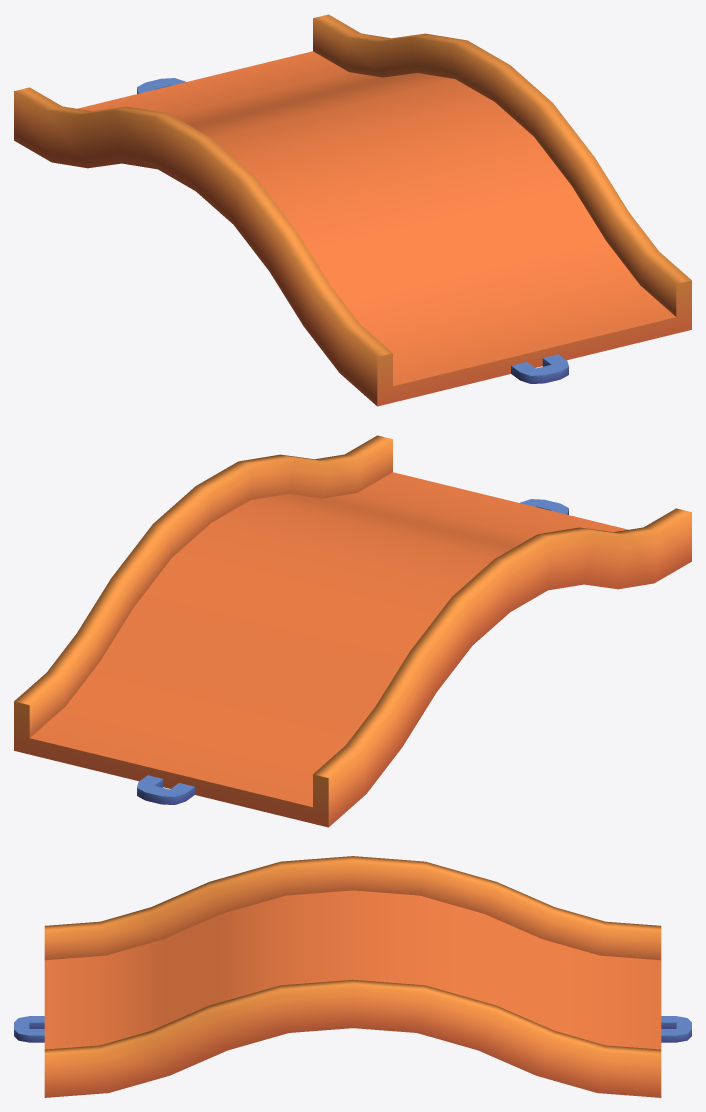
File: kenney-toy-car-track-wide-straight-bump-up.glb
The picture shows the model from 3 angles, top to bottom: view 1: azimuth 30°, elevation 25°; view 2: azimuth 150°, elevation 25°; view 3: azimuth 270°, elevation 25°; orthographic projection. The views are drawn at different scales.
Parts seen in each view (by area): view 1: track-wide-straight-bump-up; view 2: track-wide-straight-bump-up; view 3: track-wide-straight-bump-up.
Boxes of the visible parts, left/top/right/bottom form: track-wide-straight-bump-up: left=14, top=14, right=691, bottom=406; track-wide-straight-bump-up: left=14, top=435, right=691, bottom=827; track-wide-straight-bump-up: left=14, top=856, right=691, bottom=1097.
Size of the model in its own units: 2 by 0.7998 by 4.4.
1 material, 1 textured.
